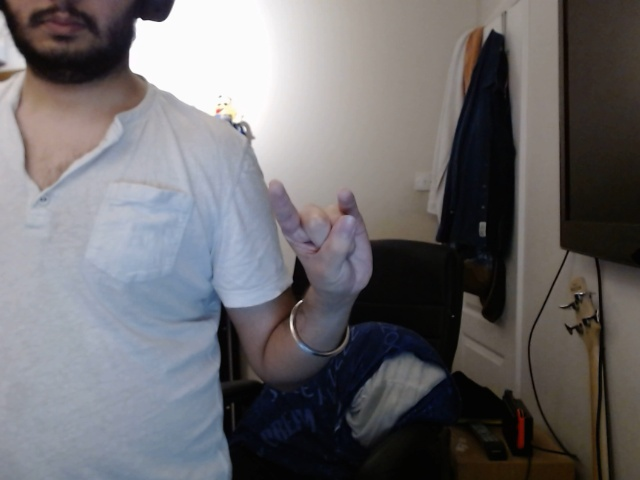Rock on: (264, 173, 387, 307)
